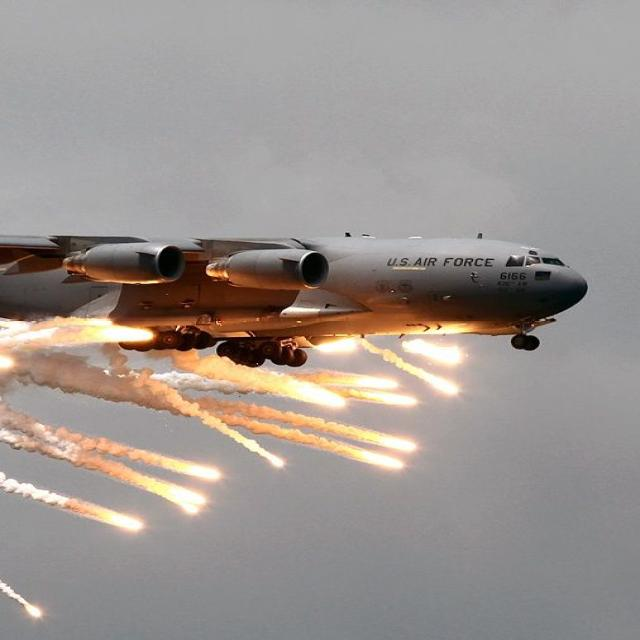MIL_Plane: (1, 232, 587, 367)
